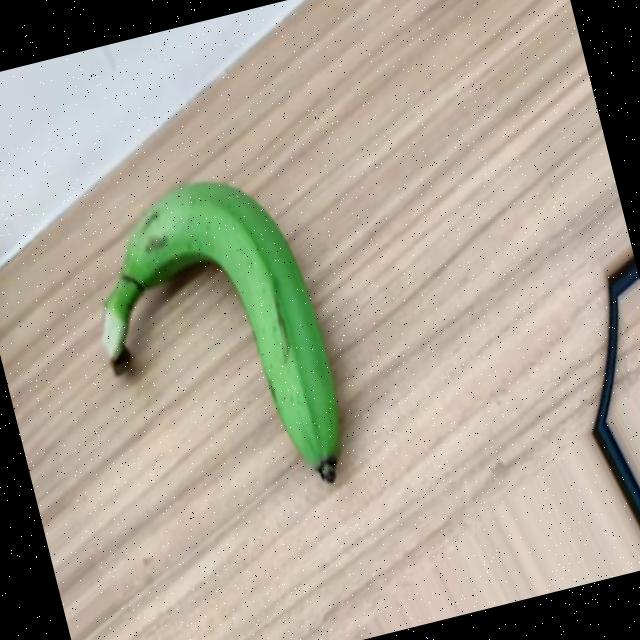Unripe: (67, 158, 358, 529)
